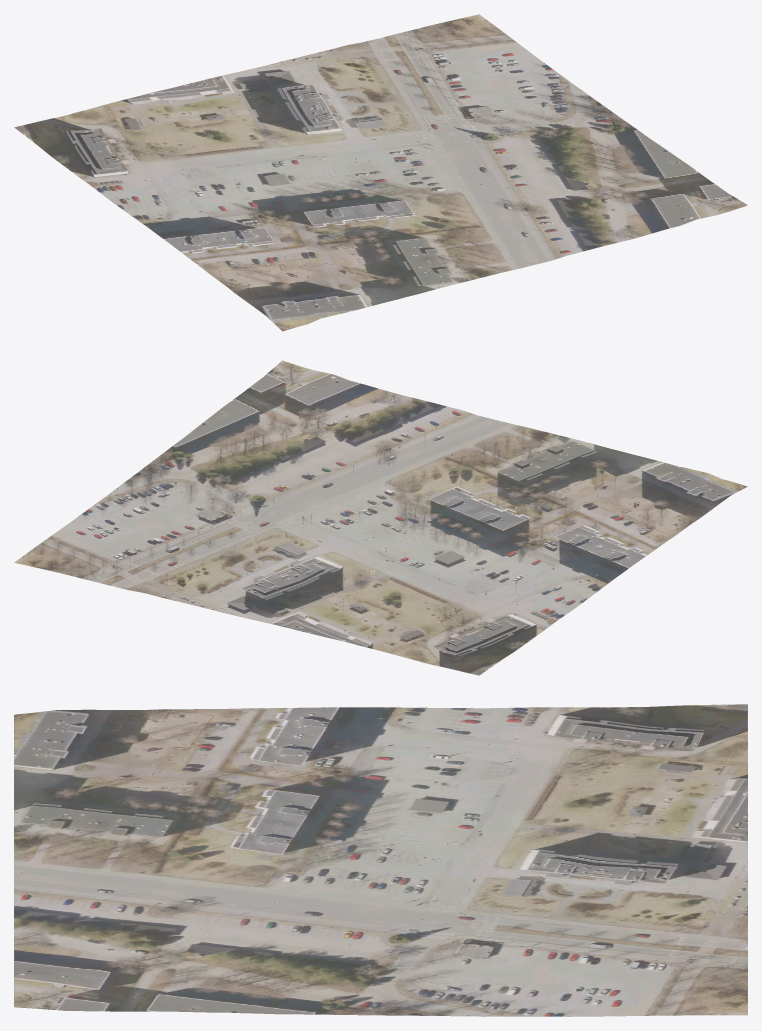
The model's file is CM_Terrain_24492916_6817746.fbx.
The picture shows the model from 3 angles, top to bottom: view 1: azimuth 30°, elevation 25°; view 2: azimuth 150°, elevation 25°; view 3: azimuth 270°, elevation 25°; orthographic projection. The views are drawn at different scales.
Parts seen in each view (by area): view 1: CM_Terrain_24492916_6817746_LOD0; view 2: CM_Terrain_24492916_6817746_LOD0; view 3: CM_Terrain_24492916_6817746_LOD0.
Boxes of the visible parts, x1=… form: CM_Terrain_24492916_6817746_LOD0: x1=14, y1=14, x2=747, y2=331; CM_Terrain_24492916_6817746_LOD0: x1=14, y1=360, x2=747, y2=675; CM_Terrain_24492916_6817746_LOD0: x1=14, y1=704, x2=747, y2=1016.
Size of what is drawn, in the model's own units: 205 by 5.41 by 205.
